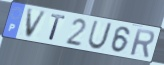2: (64, 17, 88, 48)
6: (110, 26, 133, 54)
R: (129, 27, 156, 59)
T: (48, 13, 67, 43)
U: (86, 20, 114, 51)
V: (25, 8, 49, 39)
